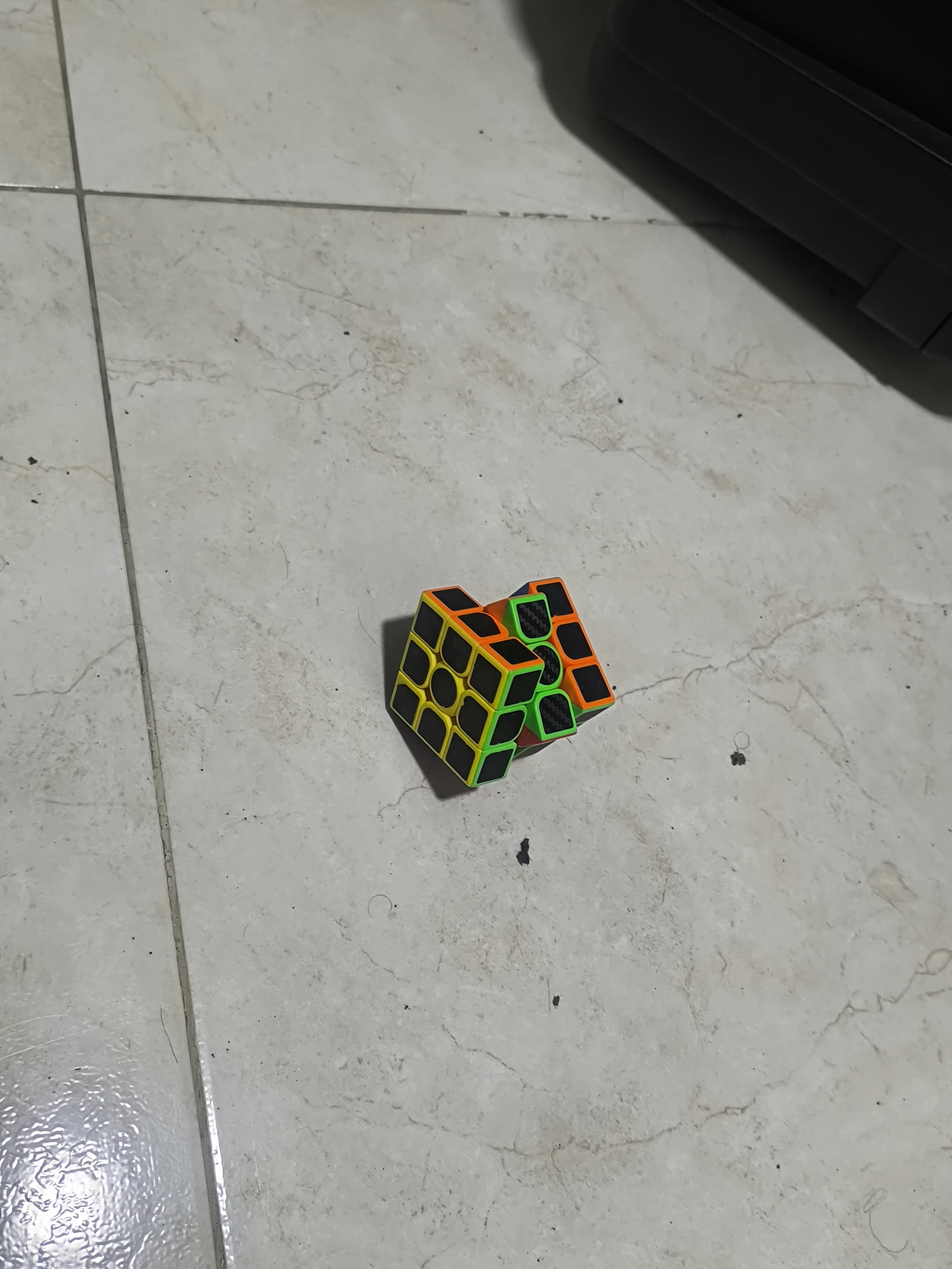cube_rubik: (380, 578, 615, 800)
